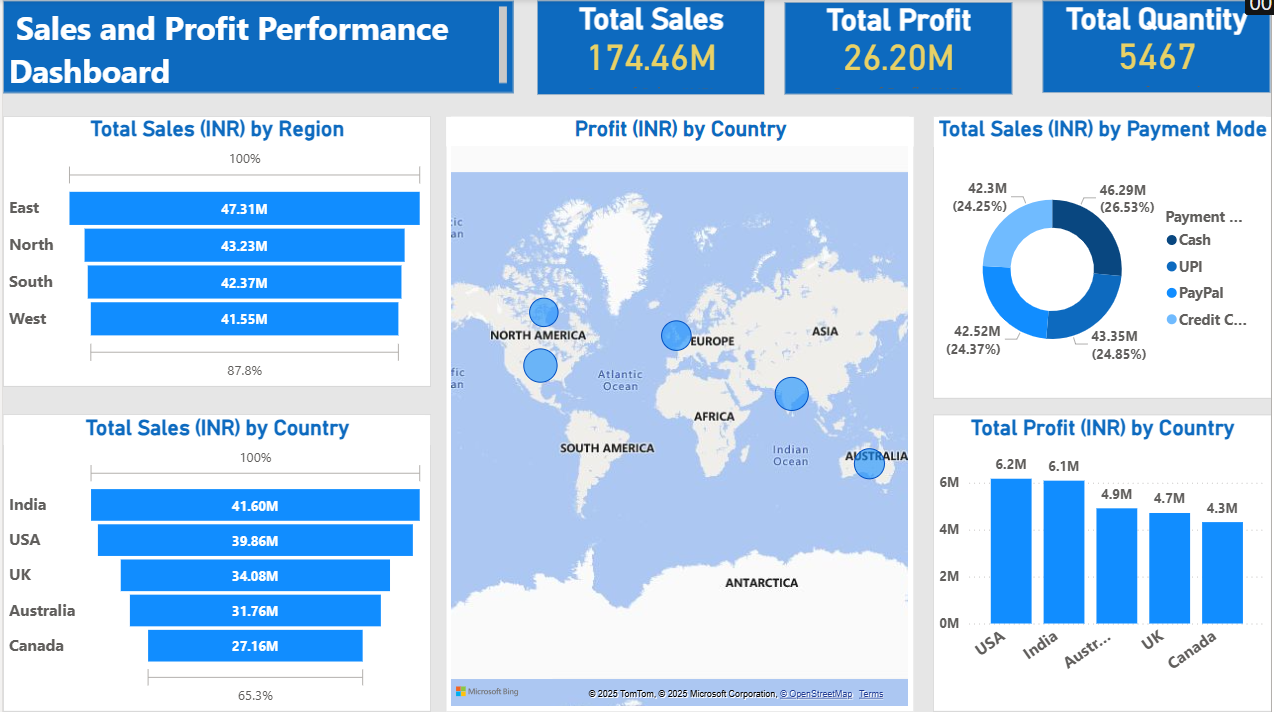

Layout of this report page (visuals, bound fields, positions):
{"tool":"powerbi","page":{"name":"Overview Page","canvas":[1280,720],"ordinal":0},"visuals":[{"type":"funnel","title":"Total Sales (INR) by Region","fields":{"Category":["Sheet1.Region"],"Y":["Sum(Sheet1.Sales (INR))"]},"box":[0,118.3,431.7,273.3],"z":0},{"type":"funnel","title":"Total Sales (INR) by Country","fields":{"Category":["Sheet1.Country"],"Y":["Sum(Sheet1.Sales (INR))"]},"box":[0,420,431.7,300],"z":1000},{"type":"map","title":" Profit (INR) by Country","fields":{"Category":["Sheet1.Country"],"Size":["Sum(Sheet1.Profit (INR))"]},"box":[446.7,118.3,473.3,601.7],"z":2000},{"type":"clusteredColumnChart","title":"Total Profit (INR) by Country","fields":{"Category":["Sheet1.Country"],"Y":["Sum(Sheet1.Profit (INR))"]},"box":[938.3,420,341.7,300],"z":3000},{"type":"donutChart","title":"Total Sales (INR) by Payment Mode","fields":{"Y":["Sum(Sheet1.Sales (INR))"],"Category":["Sheet1.Payment Mode"]},"box":[938.3,118.3,341.7,285],"z":4000},{"type":"card","title":"Total Sales","fields":{"Values":["Sum(Sheet1.Sales (INR))"]},"box":[538.3,1.7,230,95],"z":5000},{"type":"card","title":"Total Profit","fields":{"Values":["Sum(Sheet1.Profit (INR))"]},"box":[788.3,3.3,230,93.3],"z":6000},{"type":"card","title":"Total Quantity","fields":{"Values":["Sum(Sheet1.Quantity)"]},"box":[1050,1.7,230,93.3],"z":7000},{"type":"textbox","box":[0,1.7,515,93.3],"z":8000}]}

Visuals, with their boxes in screenshot pixels (x1, y1, x2, y2), scaled from the page's 1280x720 canvas onto the 1274x712 screenshot:
"Total Sales (INR) by Region" funnel: bbox=[0, 117, 430, 387]
"Total Sales (INR) by Country" funnel: bbox=[0, 415, 430, 711]
" Profit (INR) by Country" map: bbox=[445, 117, 916, 711]
"Total Profit (INR) by Country" clusteredColumnChart: bbox=[934, 415, 1273, 711]
"Total Sales (INR) by Payment Mode" donutChart: bbox=[934, 117, 1273, 399]
"Total Sales" card: bbox=[536, 2, 765, 96]
"Total Profit" card: bbox=[785, 3, 1014, 96]
"Total Quantity" card: bbox=[1045, 2, 1273, 94]
textbox: bbox=[0, 2, 513, 94]
